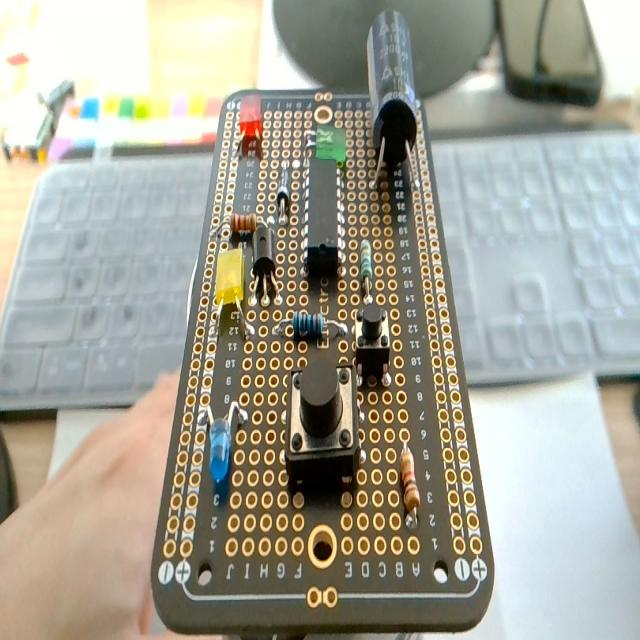Electrolytic capacitor: (366, 10, 420, 194)
IC: (298, 160, 350, 282)
diode: (276, 166, 290, 222)
led: (199, 399, 247, 482), (233, 95, 264, 158), (214, 245, 245, 307), (299, 124, 349, 161)
resistor: (279, 312, 348, 341), (399, 442, 419, 520), (291, 310, 324, 338), (360, 236, 374, 299), (232, 211, 256, 235)
switch: (286, 355, 360, 498), (355, 303, 391, 384)
transistor: (250, 220, 278, 304)
